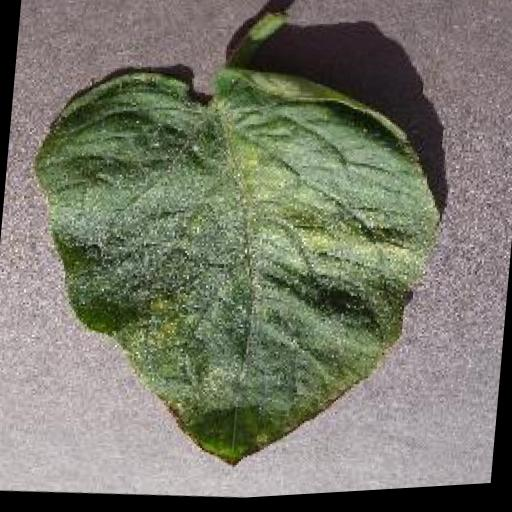Spider Mites: (13, 39, 452, 496)
